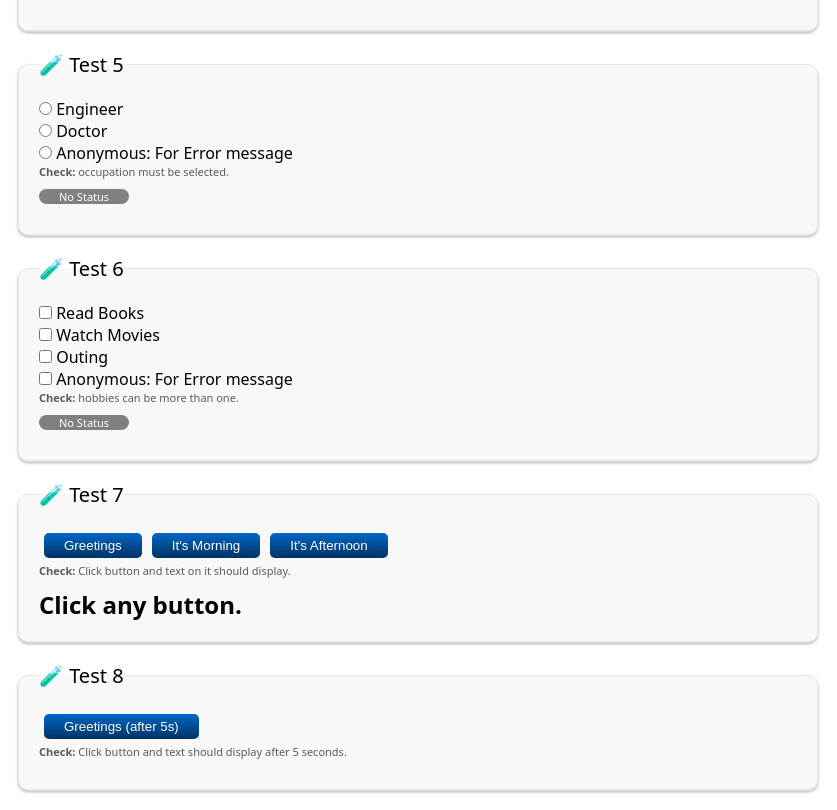
Test: Form Component › should have click-event section working fine
(page scrolled)
Expected: the heading with test id "click-event-text" reads "Click any button.", [39,588,242,621]
Click the button with test id "click-event-greeting" at [93, 546], box [44,533,142,558]
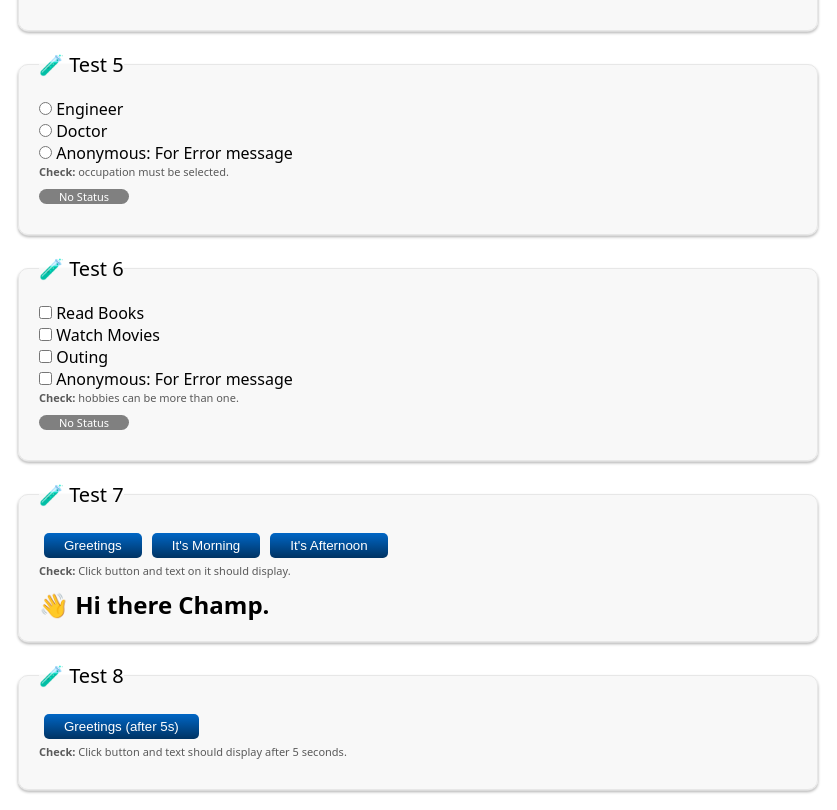
Expected: the heading with test id "click-event-text" reads "👋 Hi there Champ.", [39,588,270,621]
Click the button with test id "click-event-morning" at [206, 546], box [152,533,260,558]
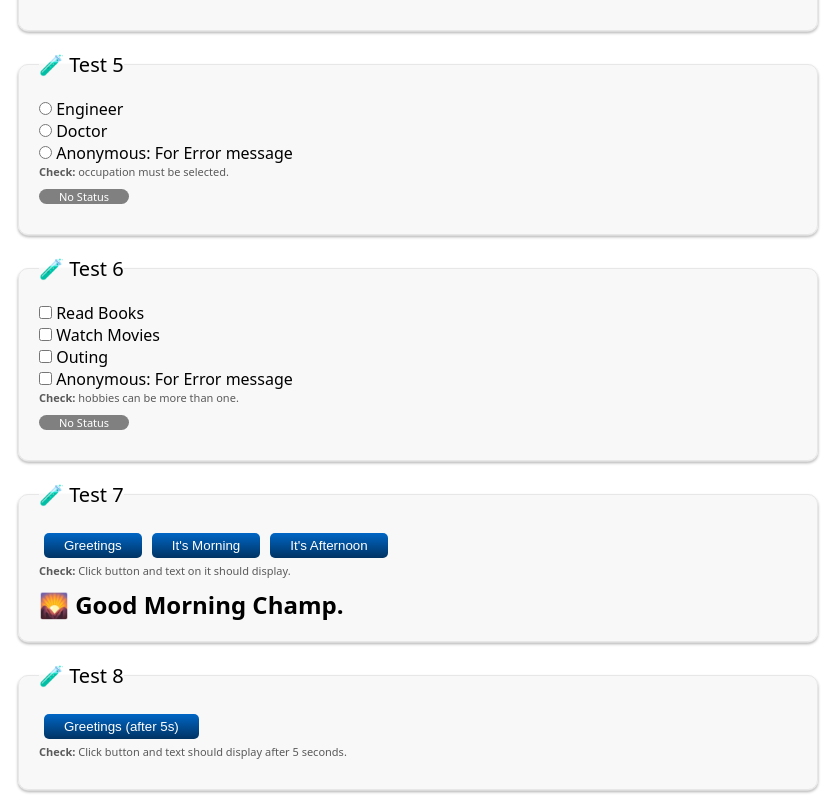
Expected: the heading with test id "click-event-text" reads "🌄 Good Morning Champ.", [39,588,344,621]
Click the button with test id "click-event-afternoon" at [329, 546], box [270,533,388,558]
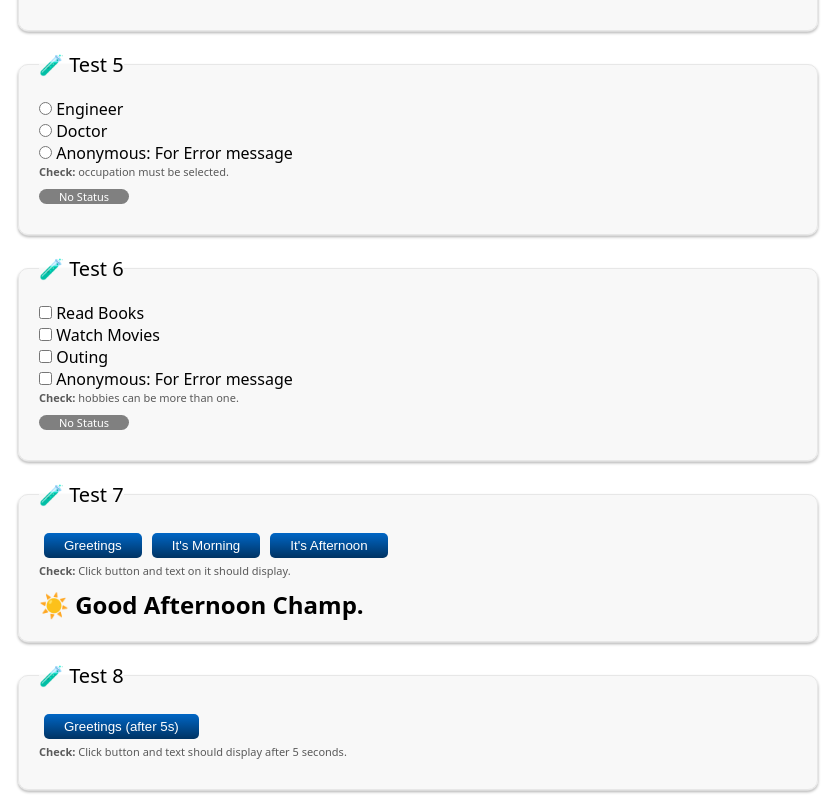
Expected: the heading with test id "click-event-text" reads "☀️ Good Afternoon Champ.", [39,588,364,621]
